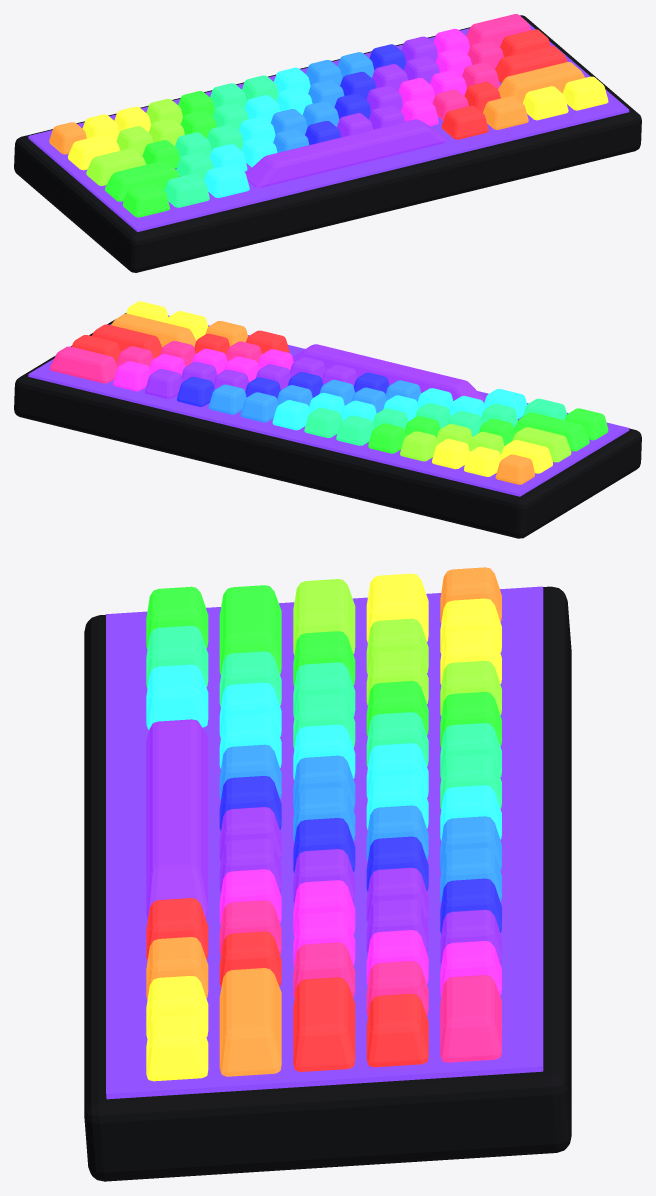
Rendered from kb_rgb.glb.
3 renders of one model, top to bottom at view 1: azimuth 30°, elevation 25°; view 2: azimuth 150°, elevation 25°; view 3: azimuth 270°, elevation 25°, orthographic. The views are drawn at different scales.
Parts seen in each view (by area): view 1: kb_rgb; view 2: kb_rgb; view 3: kb_rgb.
Boxes of the visible parts, x1,y1,x2,y2 form: kb_rgb: [14, 14, 641, 272]; kb_rgb: [14, 301, 641, 538]; kb_rgb: [84, 567, 571, 1181].
Bounding box in the file's own units: 0.305 × 0.0409 × 0.1257.
